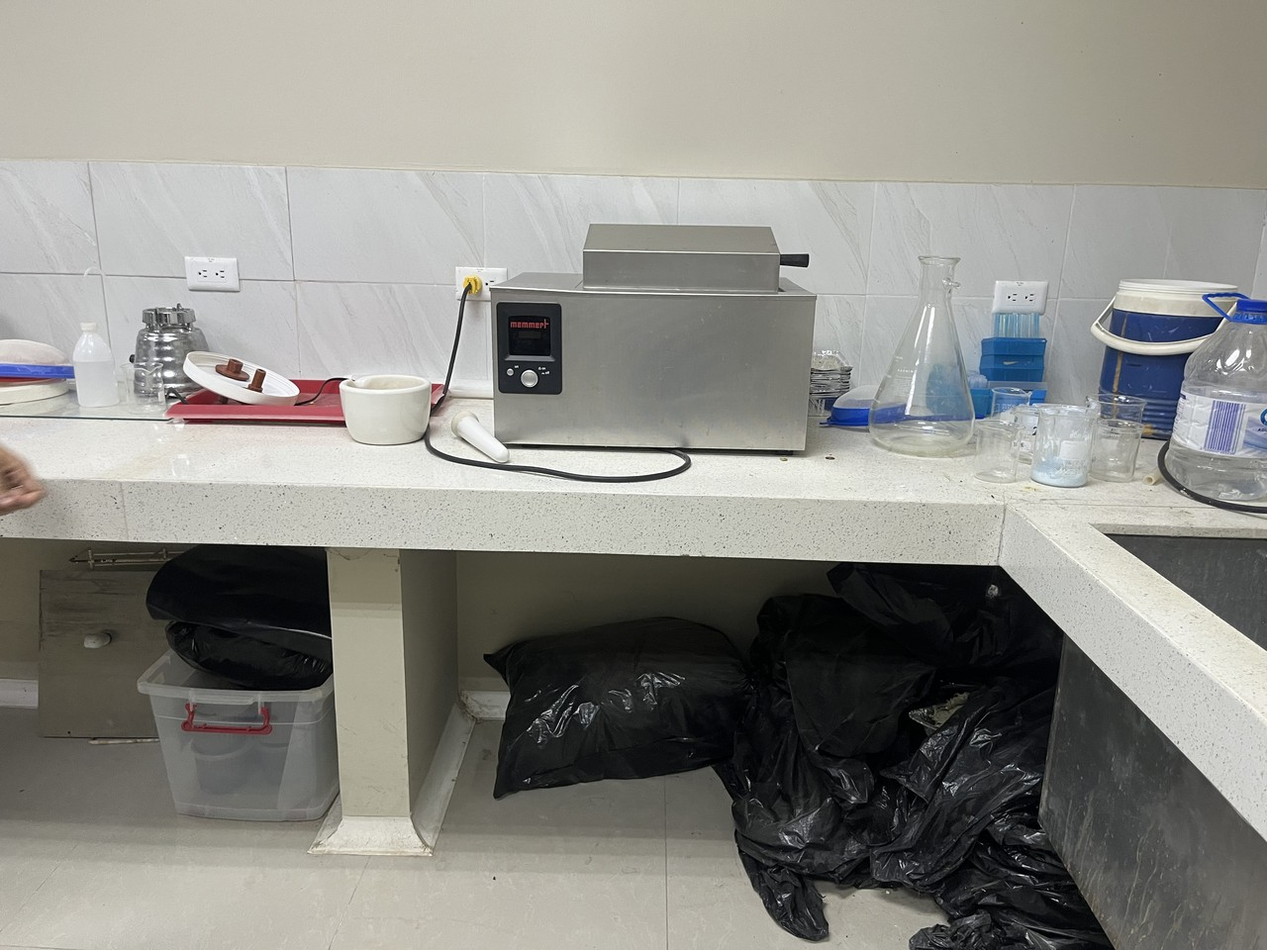memmert: (469, 193, 826, 474)
